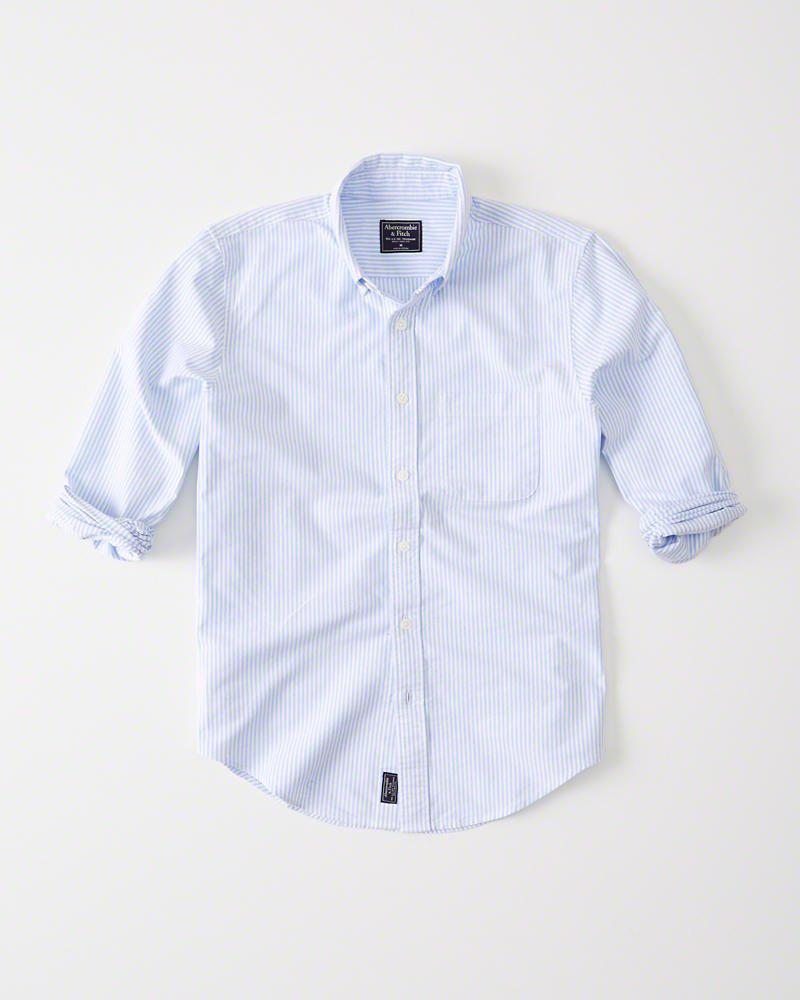teeshirt: (70, 153, 745, 825)
